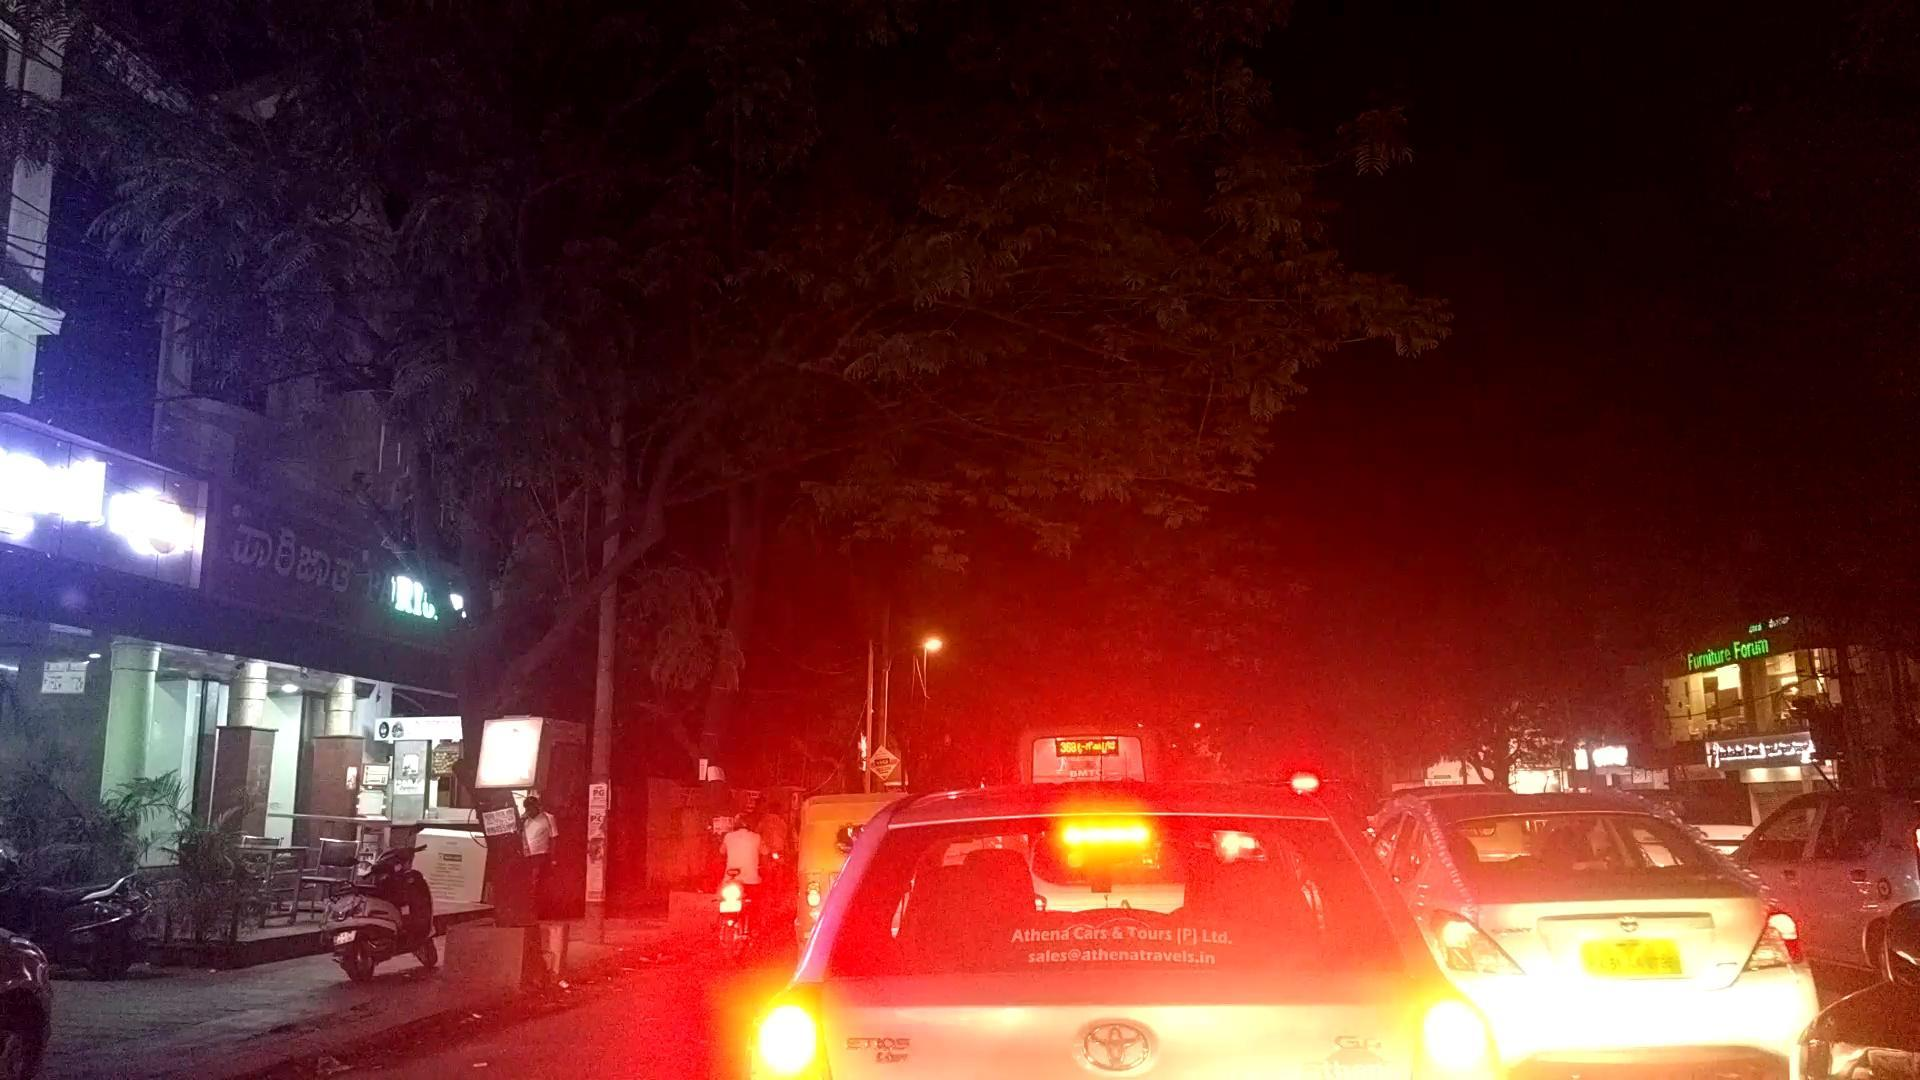on: (0, 12, 1919, 1080)
